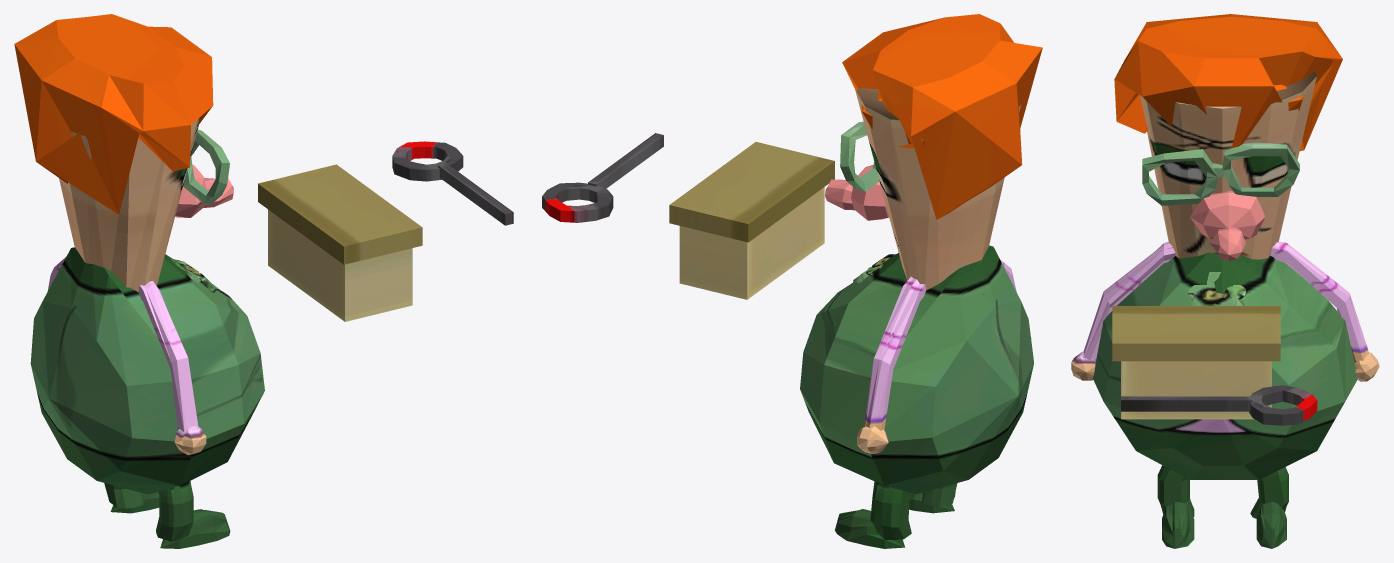
The model's file is ShikFond.glb.
3 views of the same model, side by side, from view 1: azimuth 30°, elevation 25°; view 2: azimuth 150°, elevation 25°; view 3: azimuth 270°, elevation 25° (orthographic). The views are drawn at different scales.
Parts seen in each view (by area): view 1: ShikFond; view 2: ShikFond; view 3: ShikFond.
Boxes of the visible parts, x1,y1,x2,y2 form: ShikFond: (14, 14, 513, 548); ShikFond: (542, 14, 1042, 548); ShikFond: (1071, 14, 1379, 548).
Bounding box in the file's own units: 216 × 223 × 132.
Materials: 1 (1 with a texture image).
